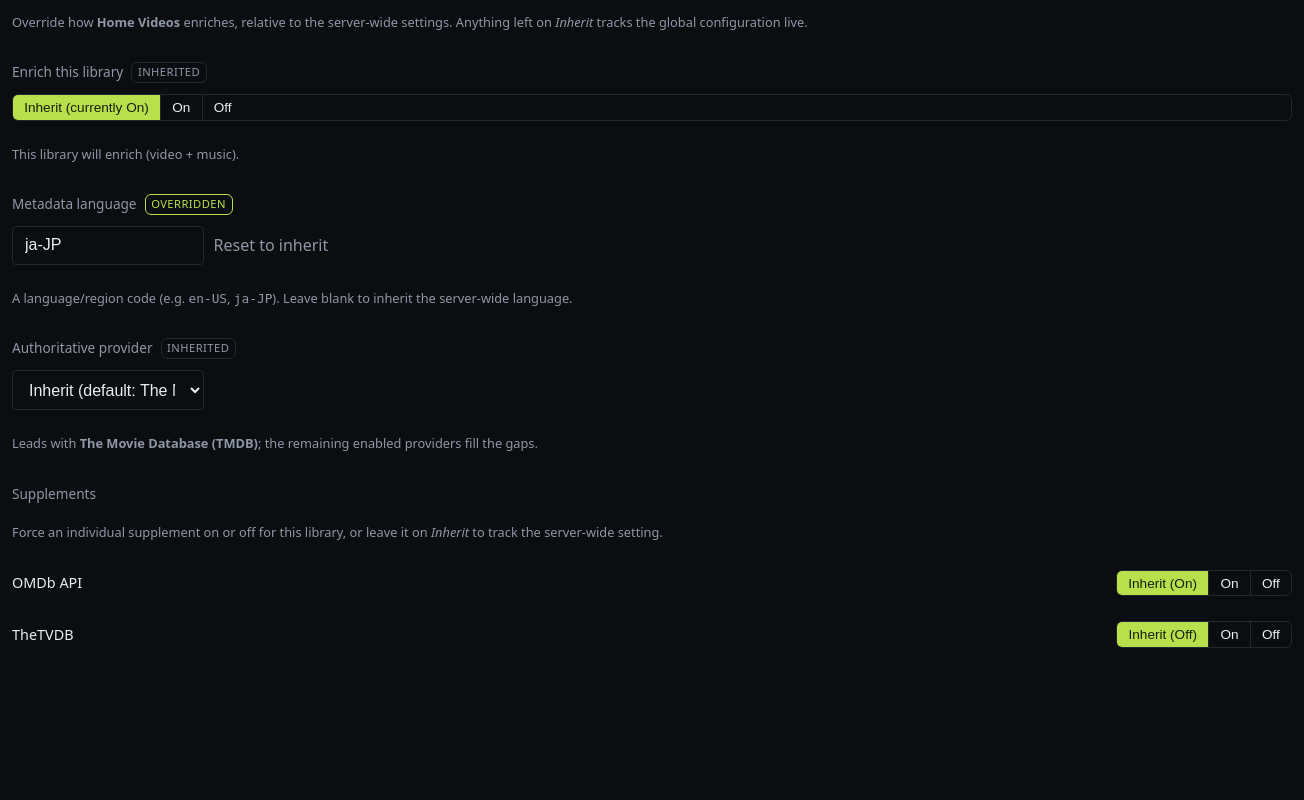
Test case: EnrichmentPolicyPanel › reset-to-inherit clears the language override (metadataLanguage=null)
The width and height of the screenshot is (1304, 800).
Expected: the element with test id "metadata-language-control" shows "Overridden", left=151, top=196, right=226, bottom=211
Click the button with test id "metadata-language-reset" at (271, 245), box left=214, top=233, right=328, bottom=257
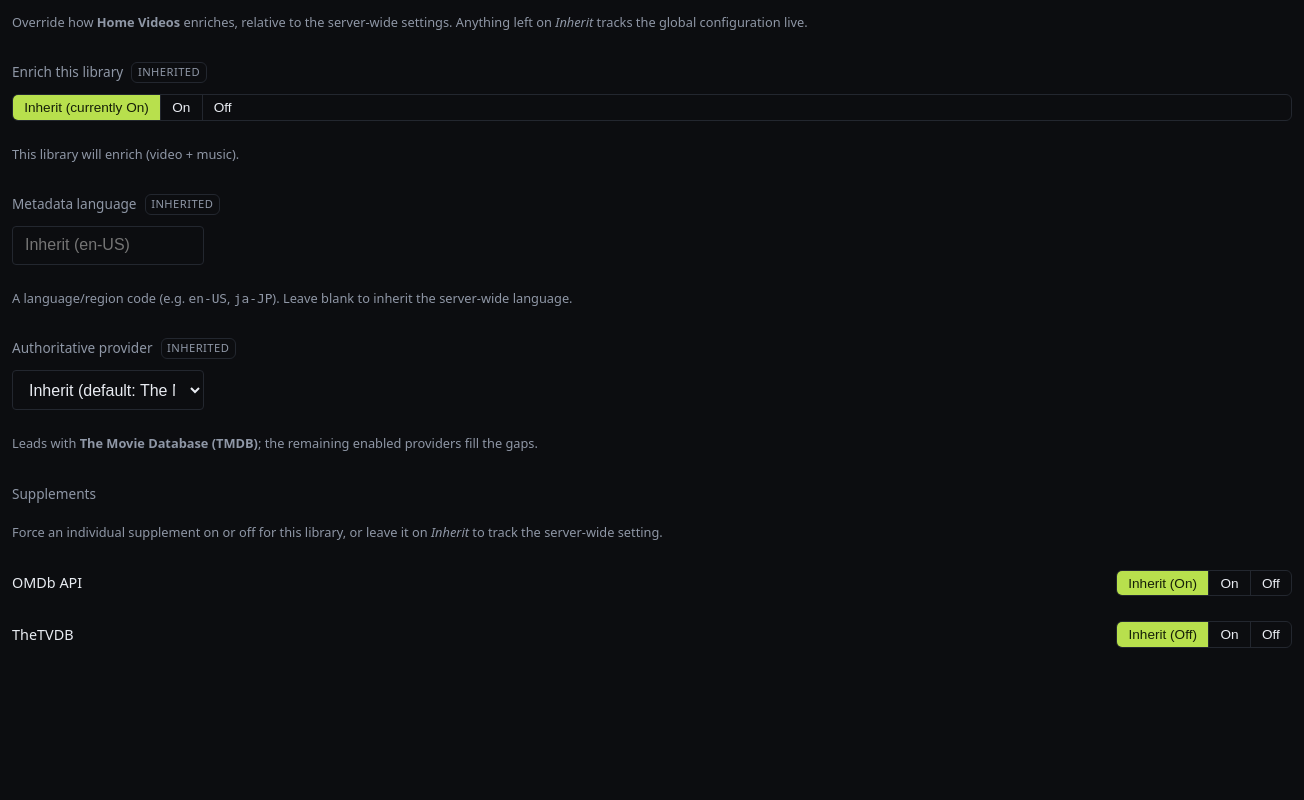
Expected: the element with test id "metadata-language-control" shows "Inherited", left=151, top=196, right=213, bottom=211
